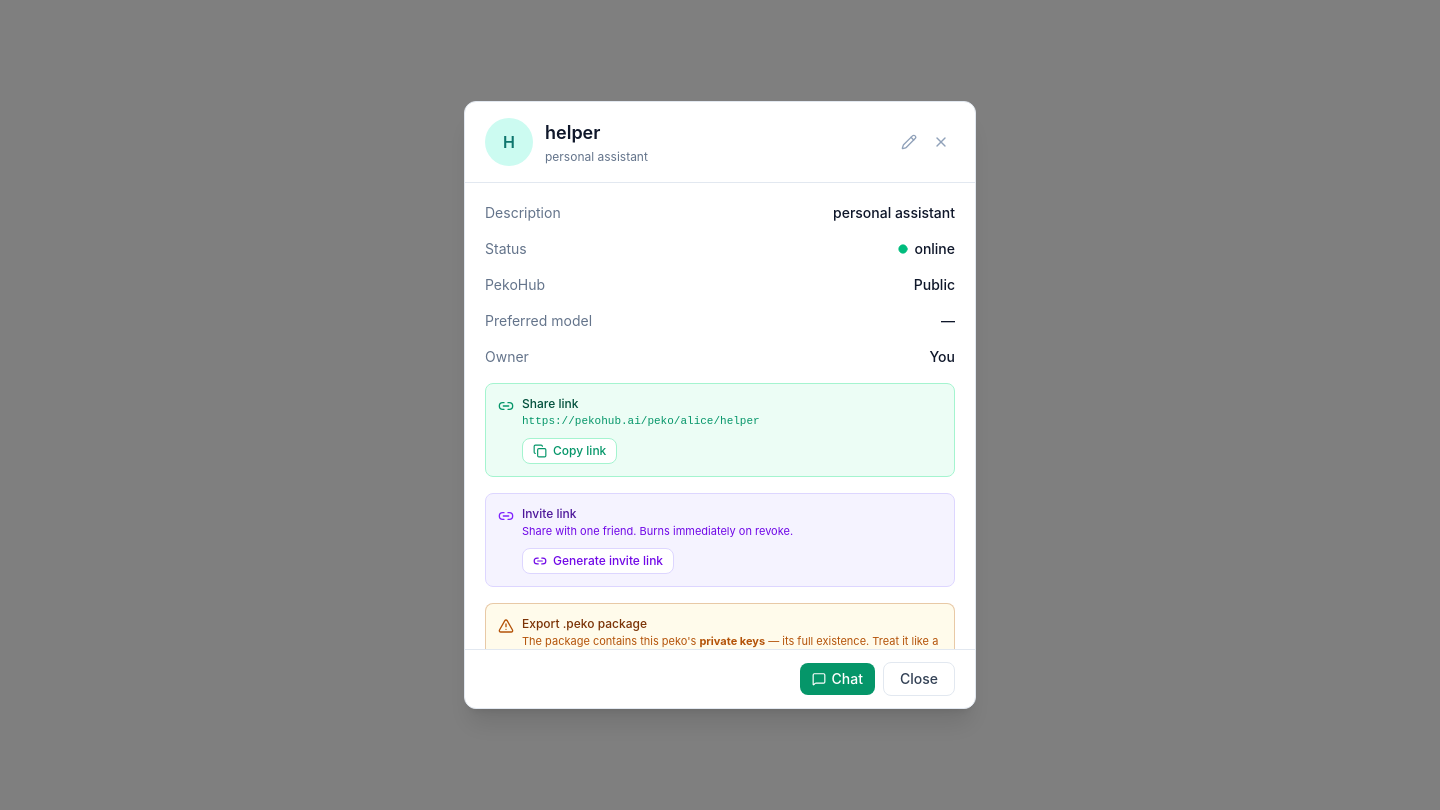
Scenario: PrincipalProfileModal › edit mode uses peko copy for the description placeholder
Click the button titled "Edit". click: (909, 142)
box: [895,128,923,156]
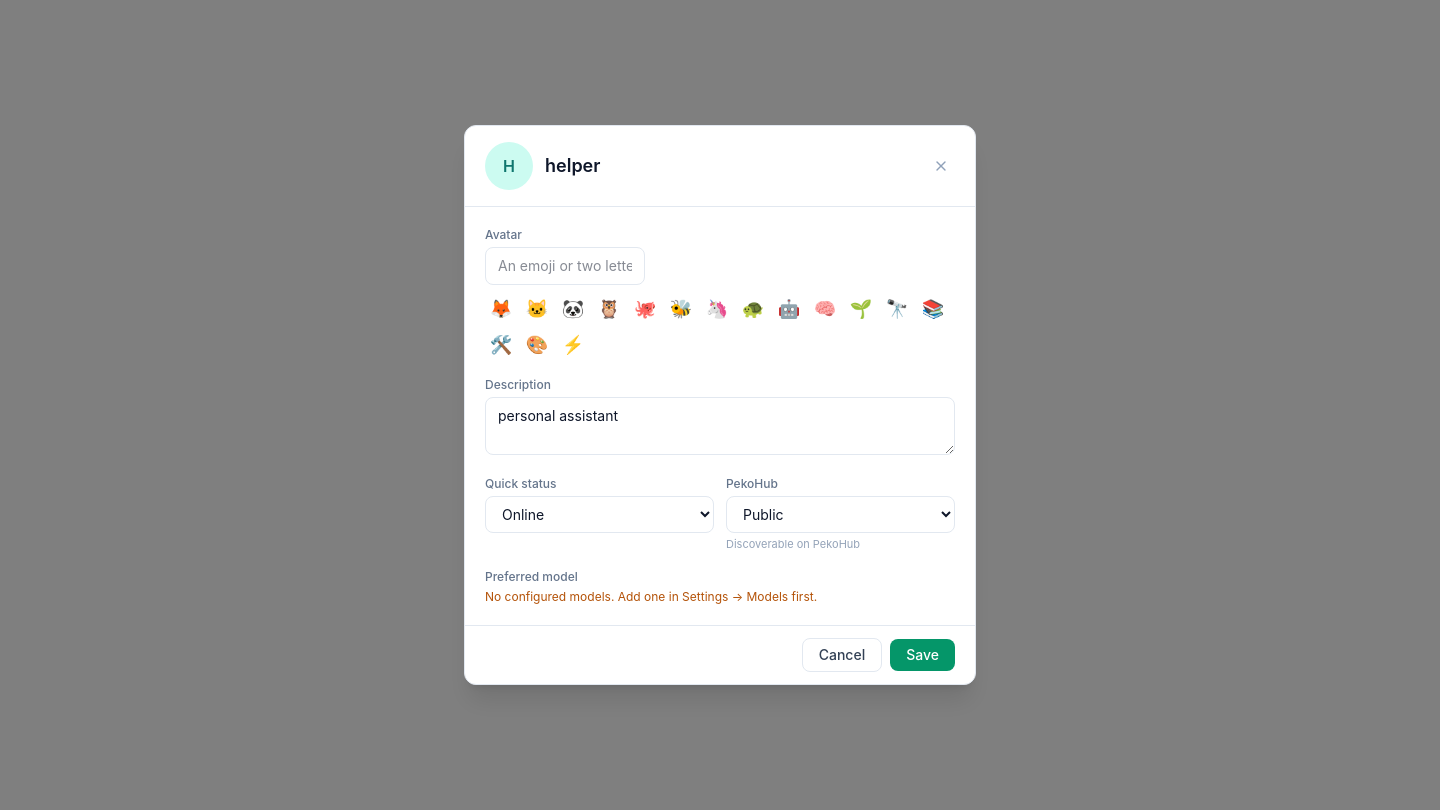
Expected: the text box with placeholder "What this peko does" is shown, [485,397,955,455]
